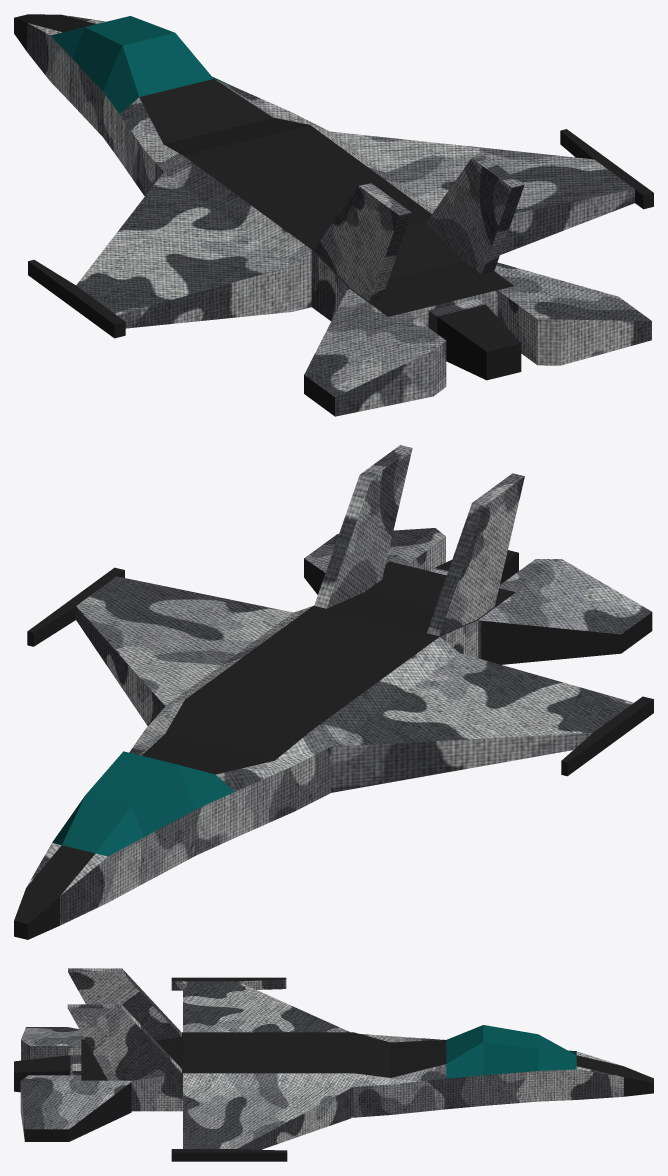
File: airplane.fbx
3 renders of one model, top to bottom at view 1: azimuth 30°, elevation 25°; view 2: azimuth 150°, elevation 25°; view 3: azimuth 270°, elevation 25°, orthographic. The views are drawn at different scales.
Parts seen in each view (by area): view 1: Cube; view 2: Cube; view 3: Cube.
Part boxes in pixels (bbox=[...]): Cube: bbox=[14, 14, 653, 416]; Cube: bbox=[14, 445, 653, 939]; Cube: bbox=[14, 968, 653, 1161].
Size of the model in its own units: 544 by 150 by 842.
Materials: 3 (1 with a texture image).
